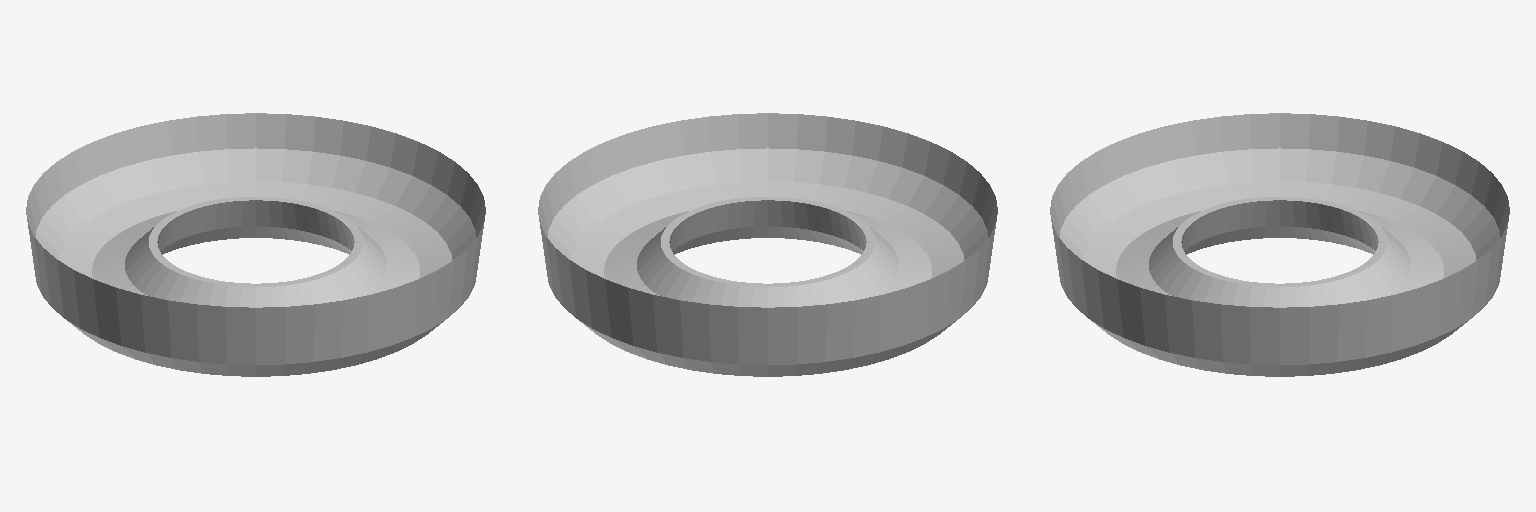
Rendered from stage2.obj.
3 renders of one model, left to right at view 1: azimuth 30°, elevation 25°; view 2: azimuth 150°, elevation 25°; view 3: azimuth 270°, elevation 25°, orthographic.
Visible parts, largest first — view 1: Torus; view 2: Torus; view 3: Torus.
Part boxes in pixels (left/top/right/bottom): Torus: left=26, top=113, right=485, bottom=376; Torus: left=538, top=113, right=997, bottom=376; Torus: left=1050, top=113, right=1509, bottom=376.
Bounding box in the file's own units: 14 × 3.06 × 14.